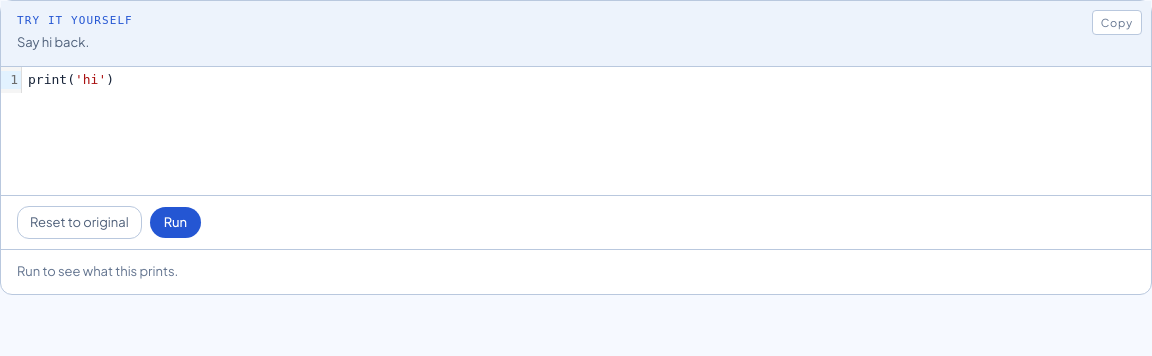
Playground › shows a loading state while preparing, then runs, then shows output
The width and height of the screenshot is (1152, 356).
Click the button "Run". click: (175, 222)
box: left=150, top=206, right=201, bottom=238
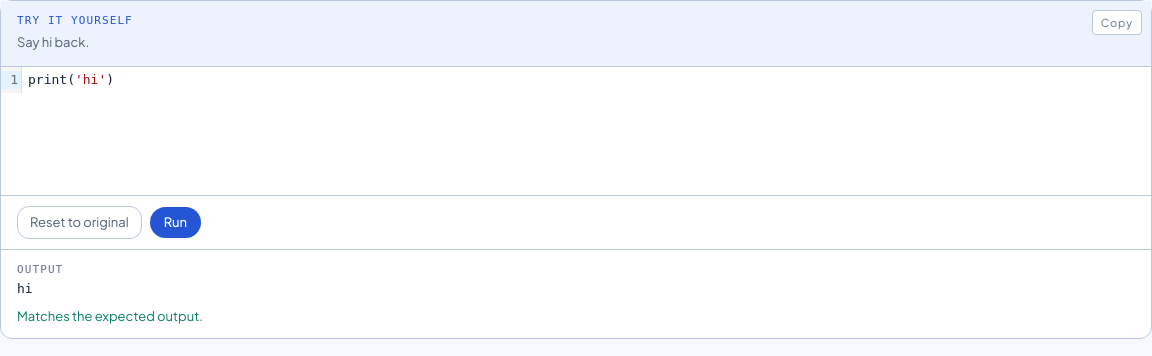
Expected: the text "hi" is shown, left=17, top=281, right=33, bottom=296
Expected: the text "Matches the expected output." is shown, left=17, top=308, right=203, bottom=324
